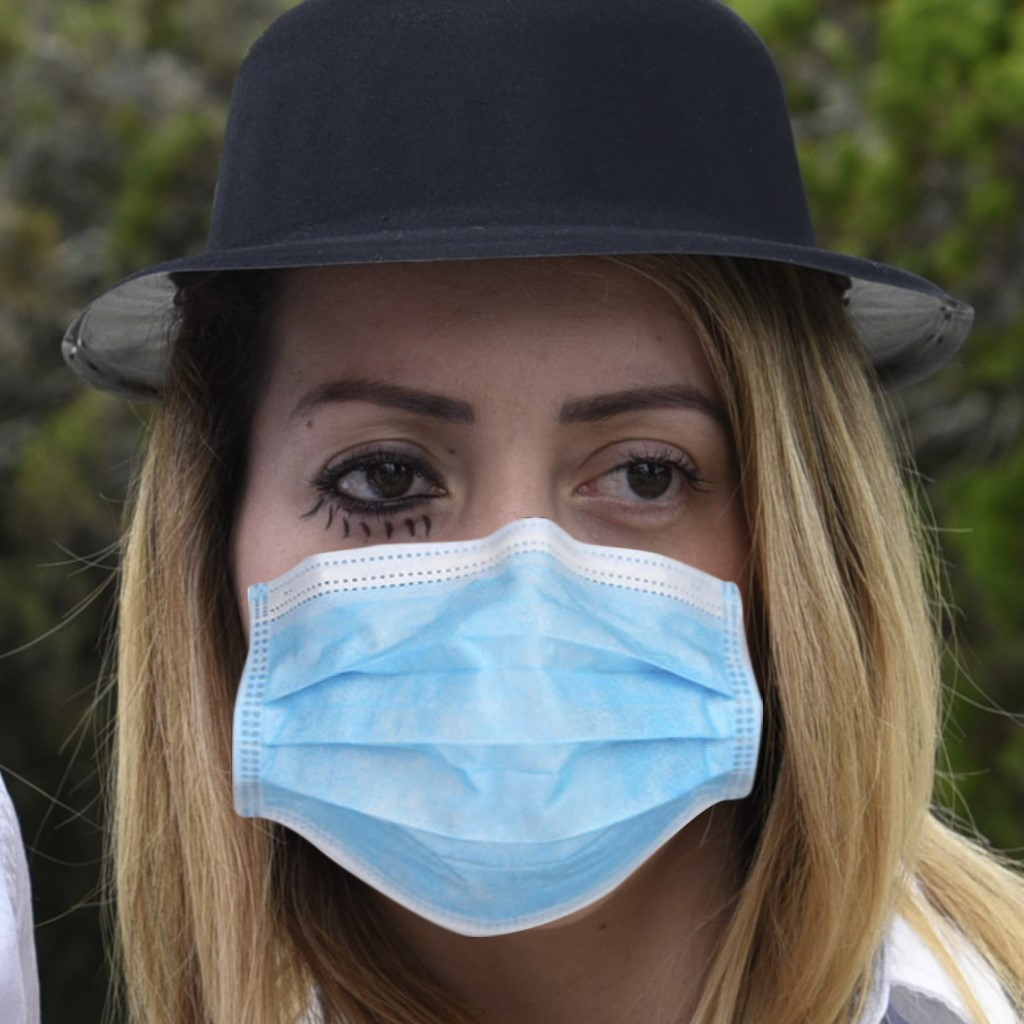con_mascara: (234, 236, 774, 938)
